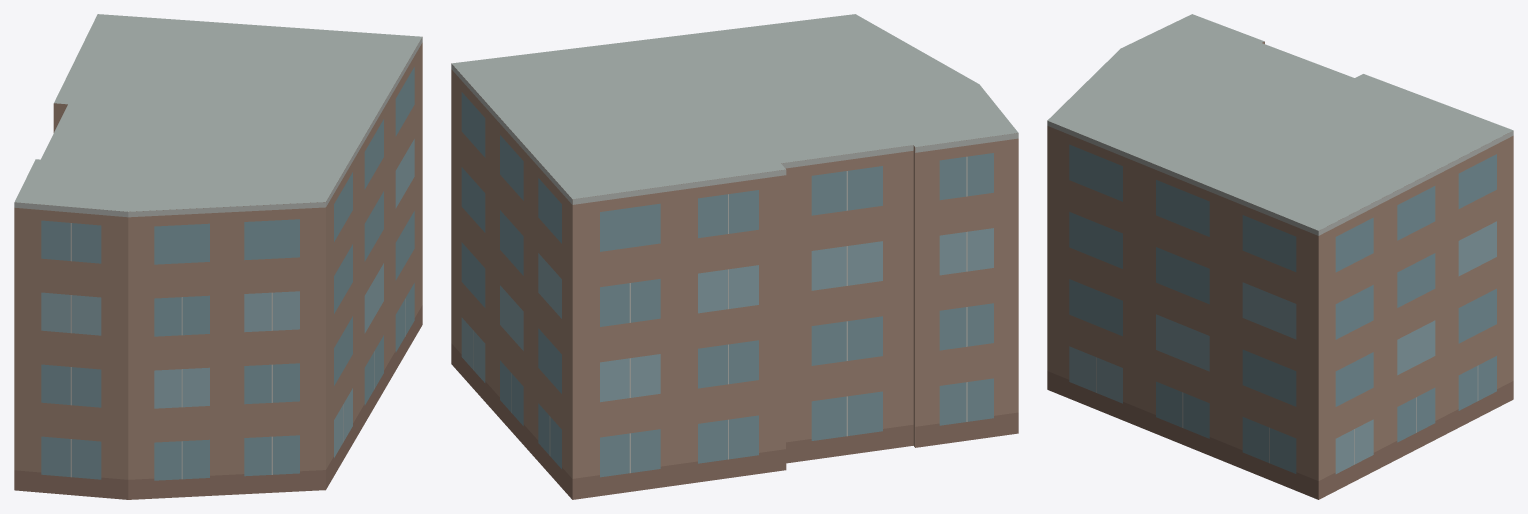
Rendered from survey-upis-32659672.glb.
The picture shows the model from 3 angles, left to right: view 1: azimuth 30°, elevation 25°; view 2: azimuth 150°, elevation 25°; view 3: azimuth 270°, elevation 25°; orthographic projection. The views are drawn at different scales.
Parts seen in each view (by area): view 1: survey-upis-32659672.tmp; view 2: survey-upis-32659672.tmp; view 3: survey-upis-32659672.tmp.
Part boxes in pixels (bbox=[...]): survey-upis-32659672.tmp: bbox=[14, 14, 422, 499]; survey-upis-32659672.tmp: bbox=[451, 14, 1018, 499]; survey-upis-32659672.tmp: bbox=[1047, 14, 1513, 499].
Size of the model in its own units: 22.22 by 12.85 by 20.2.
